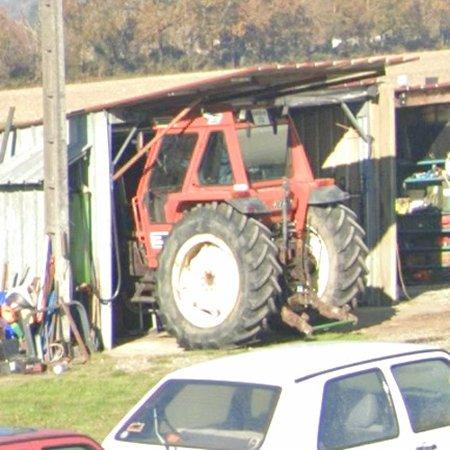tractors: (130, 109, 369, 348)
